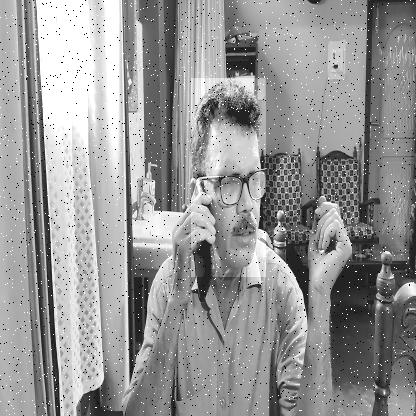Distracted: (191, 78, 266, 277)
